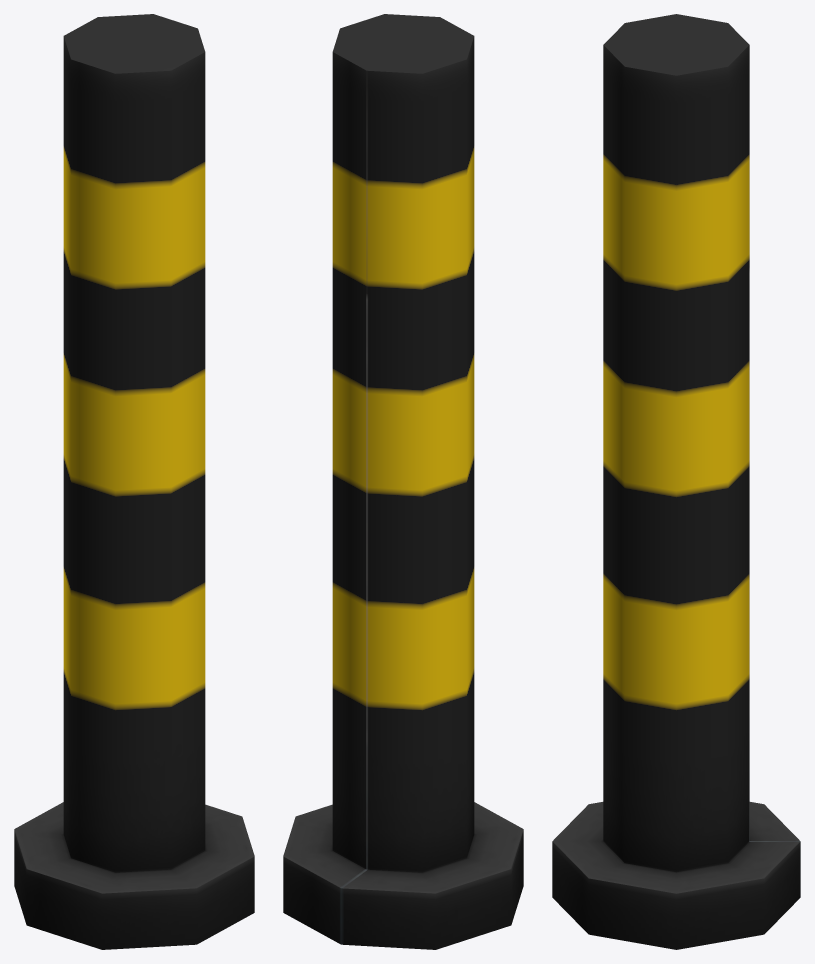
Rendered from CylinderStick01.FBX.
3 views of the same model, side by side, from view 1: azimuth 30°, elevation 25°; view 2: azimuth 150°, elevation 25°; view 3: azimuth 270°, elevation 25° (orthographic).
Parts seen in each view (by area): view 1: CylinderStick01; view 2: CylinderStick01; view 3: CylinderStick01.
Boxes of the visible parts, left/top/right/bottom form: CylinderStick01: left=14, top=14, right=254, bottom=949; CylinderStick01: left=283, top=14, right=523, bottom=949; CylinderStick01: left=552, top=14, right=800, bottom=949.
Bounding box in the file's own units: 18.82 × 71.31 × 18.82.
